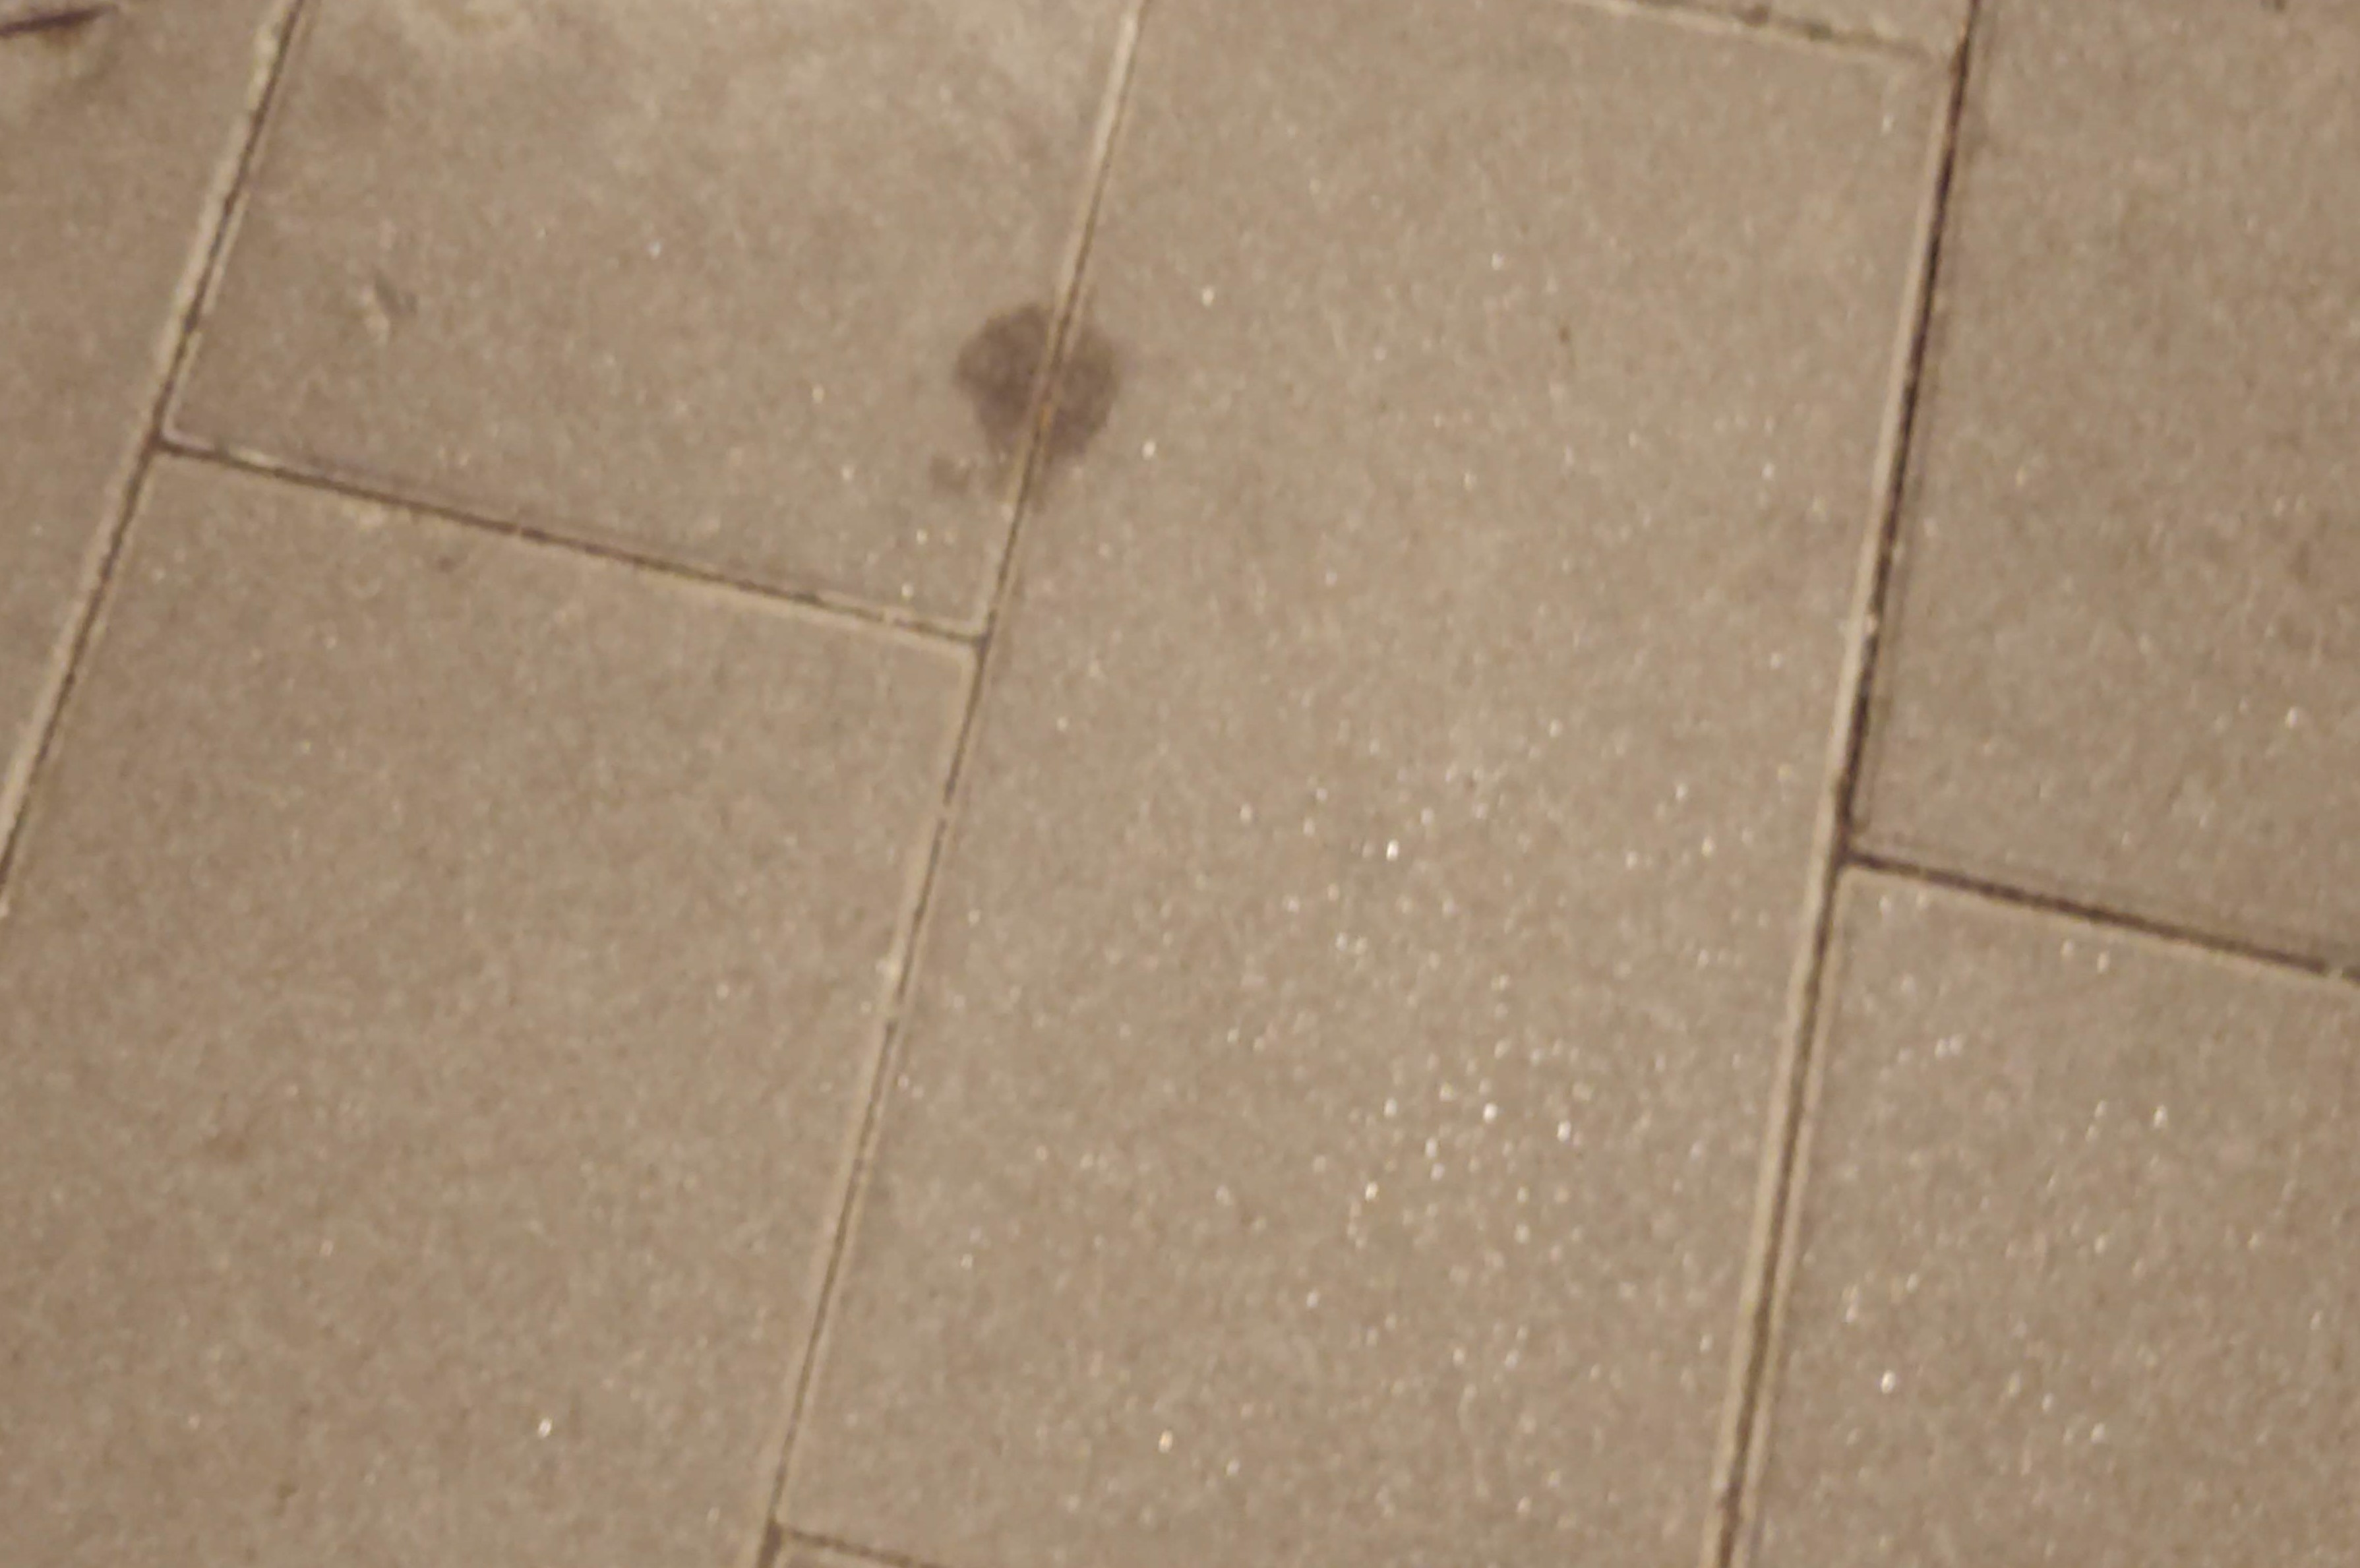grey spot: (959, 299, 1118, 509)
